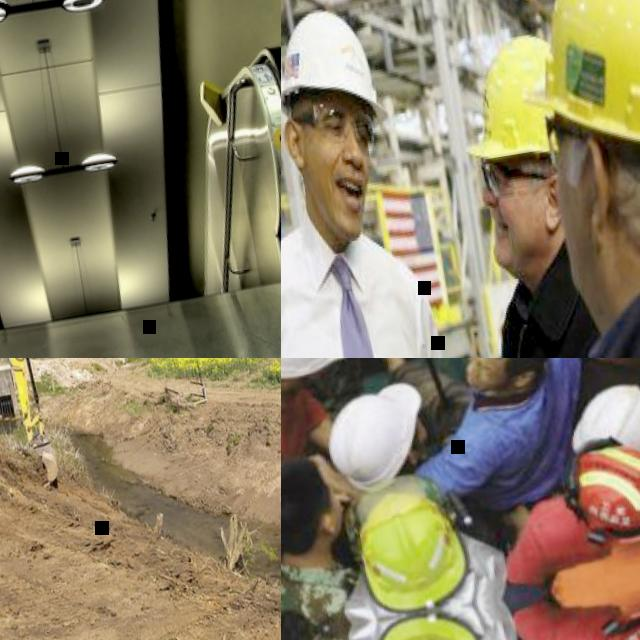Hardhat: (498, 0, 640, 176), (342, 479, 488, 629), (316, 366, 442, 506), (447, 30, 567, 166), (281, 0, 391, 141), (570, 438, 640, 543), (562, 376, 640, 468), (373, 609, 488, 640)
NO-Hardhat: (281, 458, 335, 549)
NO-Mask: (300, 141, 376, 247), (550, 160, 602, 303), (486, 194, 556, 277), (462, 367, 492, 399), (324, 504, 347, 534)
NO-Safety Vest: (281, 211, 464, 358), (466, 358, 596, 512), (466, 274, 631, 358), (528, 499, 619, 584), (281, 380, 335, 514), (281, 552, 349, 640), (541, 590, 640, 640), (570, 358, 640, 412)
Person: (402, 26, 634, 358), (281, 0, 492, 358), (472, 0, 640, 358), (397, 358, 633, 530), (487, 437, 640, 587), (316, 364, 440, 506), (281, 455, 369, 640), (281, 358, 378, 523), (511, 577, 640, 640), (544, 358, 640, 439)
